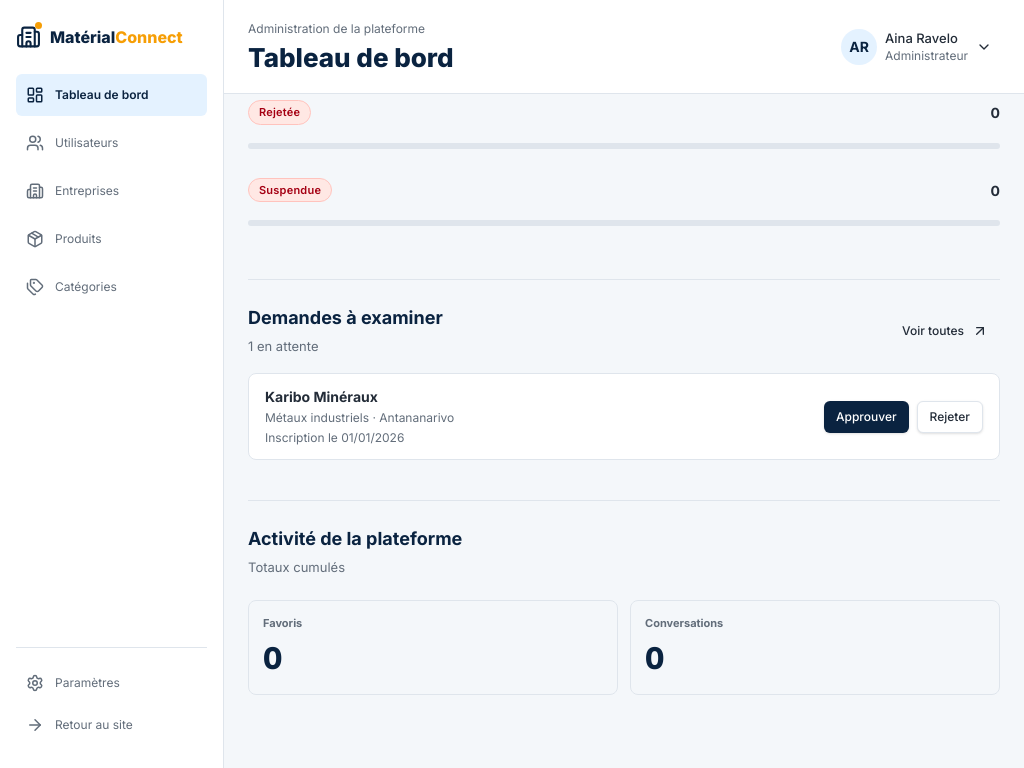
Test: Tableau de bord administrateur › exige un motif avant de rejeter une inscription en attente
The image size is (1024, 768).
(page scrolled)
Click the button "Rejeter". click: (950, 417)
box: [917,401,983,433]
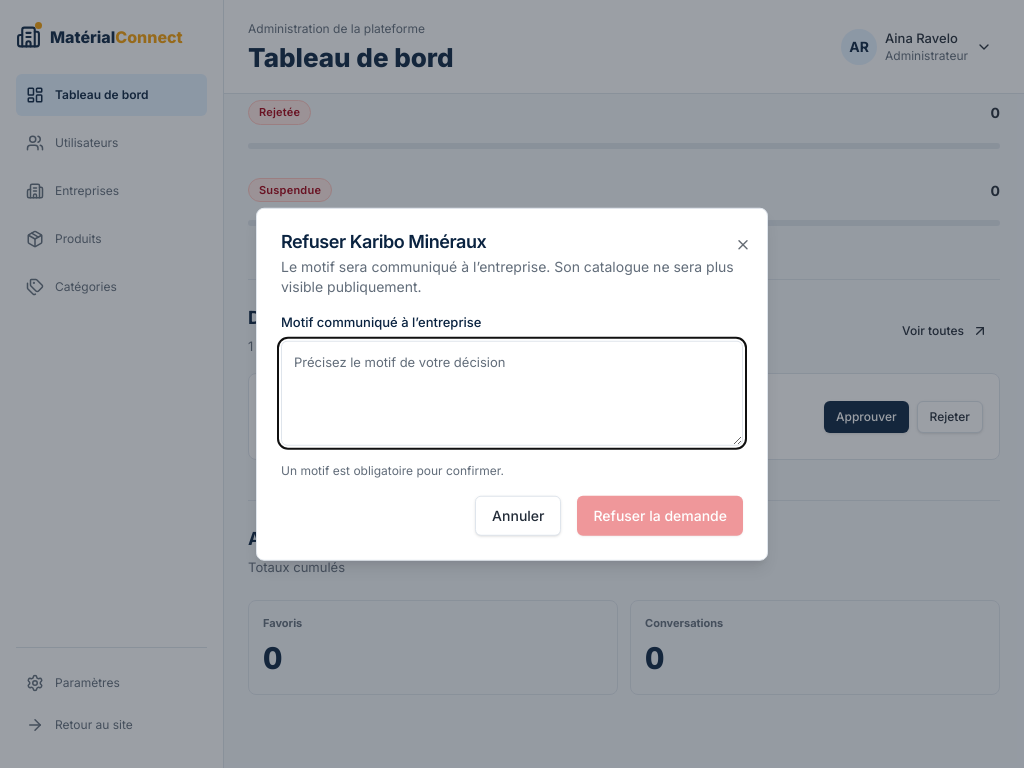
Expected: the text "Un motif est obligatoire pour confirmer." is shown, [281,462,504,477]
Expected: the button "Refuser la demande" is disabled, [578,495,743,535]
